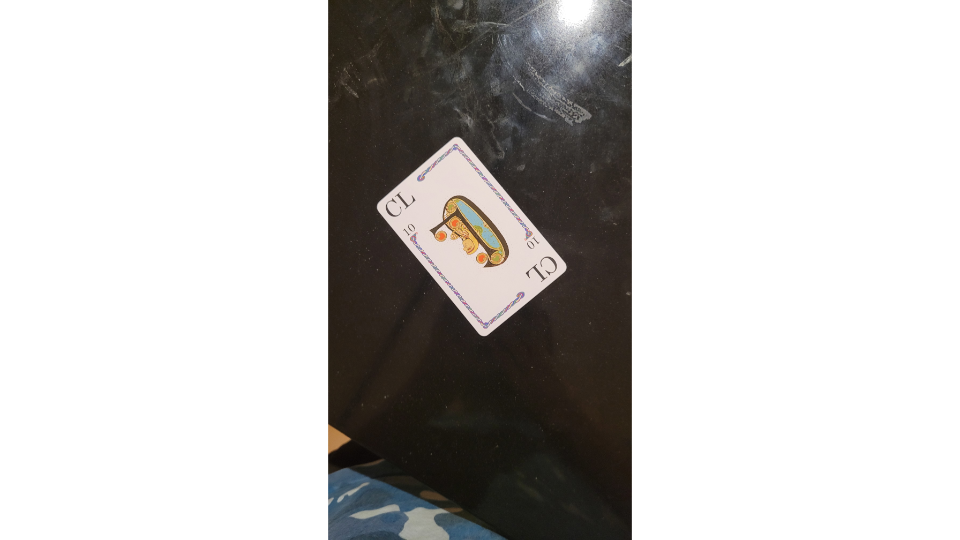CL: (373, 135, 571, 338)
